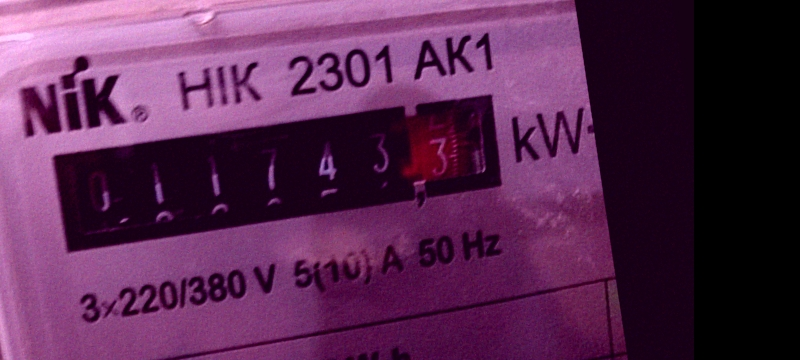0: (81, 165, 116, 216)
1: (199, 150, 227, 200), (145, 159, 169, 209)
3: (362, 127, 397, 177), (423, 133, 454, 180)
4: (308, 134, 343, 185)
7: (255, 143, 286, 194)
screen: (35, 80, 513, 265)
